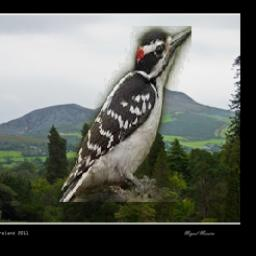Woodpecker: (58, 27, 193, 203)
